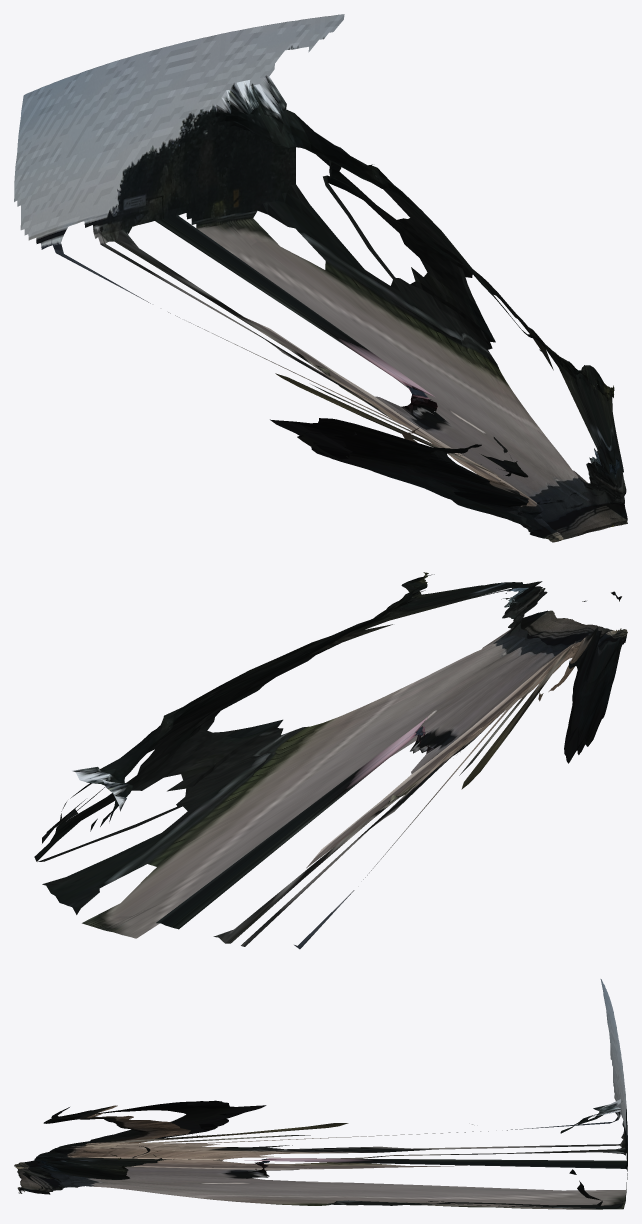
The picture shows the model from 3 angles, top to bottom: view 1: azimuth 30°, elevation 25°; view 2: azimuth 150°, elevation 25°; view 3: azimuth 270°, elevation 25°; orthographic projection. The views are drawn at different scales.
Visible parts, largest first — view 1: defaultobject; view 2: defaultobject; view 3: defaultobject.
Boxes of the visible parts, box(x1,y1,x2,y2) form: defaultobject: box(14, 14, 627, 542); defaultobject: box(34, 572, 627, 949); defaultobject: box(14, 979, 627, 1209).
Bounding box in the file's own units: 20.15 × 11.96 × 44.7.
Materials: 1 (1 with a texture image).
